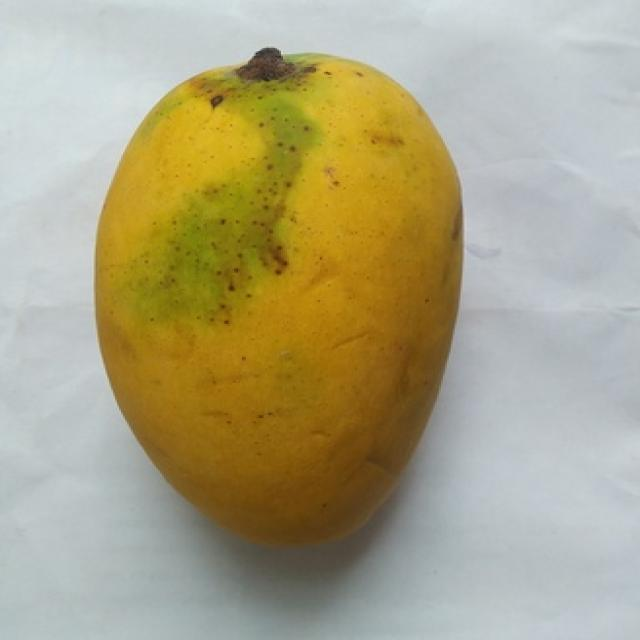Mango: (96, 49, 462, 541)
